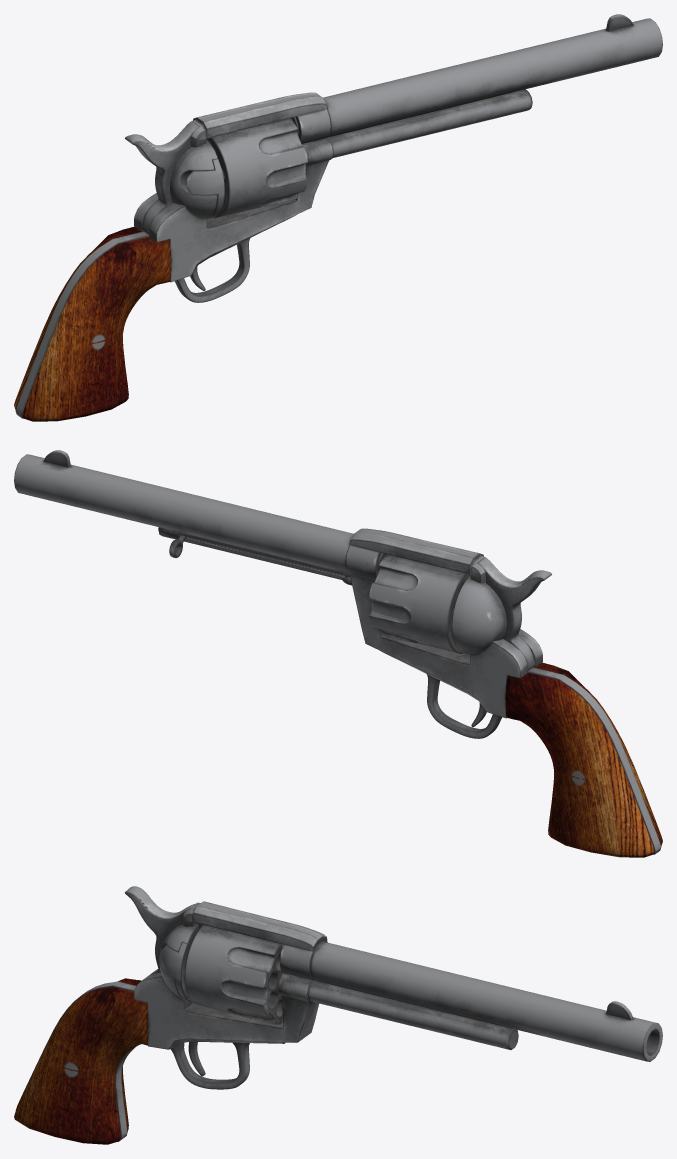
Rendered from rdr2-revolver.glb.
3 views of the same model, one above another, from view 1: azimuth 30°, elevation 25°; view 2: azimuth 150°, elevation 25°; view 3: azimuth 330°, elevation 25° (orthographic).
Visible parts, largest first — view 1: Cylinder.001, Plane, Cylinder.002, Circle, Roundcube, Plane.001, Roundcube.002; view 2: Cylinder.001, Plane, Cylinder.002, Roundcube.001, Circle, Plane.001; view 3: Cylinder.001, Plane, Cylinder.002, Circle, Plane.001, Roundcube.002, Roundcube.
Part boxes in pixels (bbox=[...]): Cylinder.001: bbox=[134, 14, 662, 282]; Plane: bbox=[14, 226, 171, 421]; Cylinder.002: bbox=[207, 118, 307, 217]; Circle: bbox=[125, 121, 199, 234]; Roundcube: bbox=[170, 139, 217, 218]; Plane.001: bbox=[174, 238, 250, 302]; Roundcube.002: bbox=[186, 159, 224, 215]; Cylinder.001: bbox=[14, 450, 542, 718]; Plane: bbox=[505, 662, 662, 857]; Cylinder.002: bbox=[369, 554, 469, 653]; Roundcube.001: bbox=[451, 575, 506, 654]; Circle: bbox=[477, 557, 551, 670]; Plane.001: bbox=[426, 674, 502, 738]; Cylinder.001: bbox=[134, 901, 662, 1061]; Plane: bbox=[14, 978, 147, 1144]; Cylinder.002: bbox=[184, 924, 283, 1024]; Circle: bbox=[125, 886, 198, 974]; Plane.001: bbox=[170, 1042, 249, 1089]; Roundcube.002: bbox=[160, 942, 190, 999]; Roundcube: bbox=[159, 924, 198, 1002].
Bounding box in the file's own units: 4.73 × 1.85 × 0.5788.
1 material, 1 textured.
